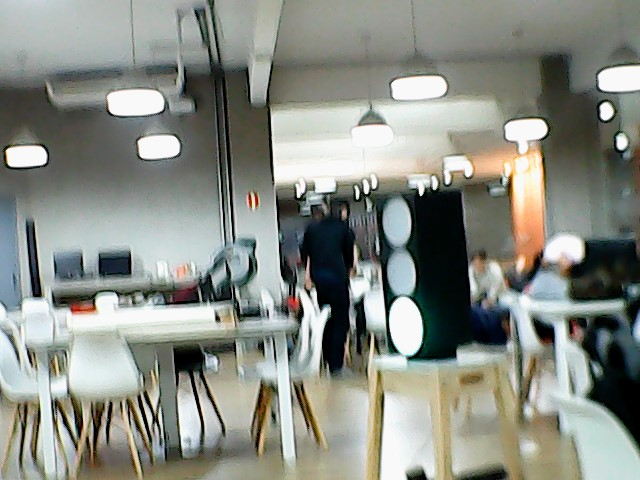verde: (372, 187, 474, 356)
